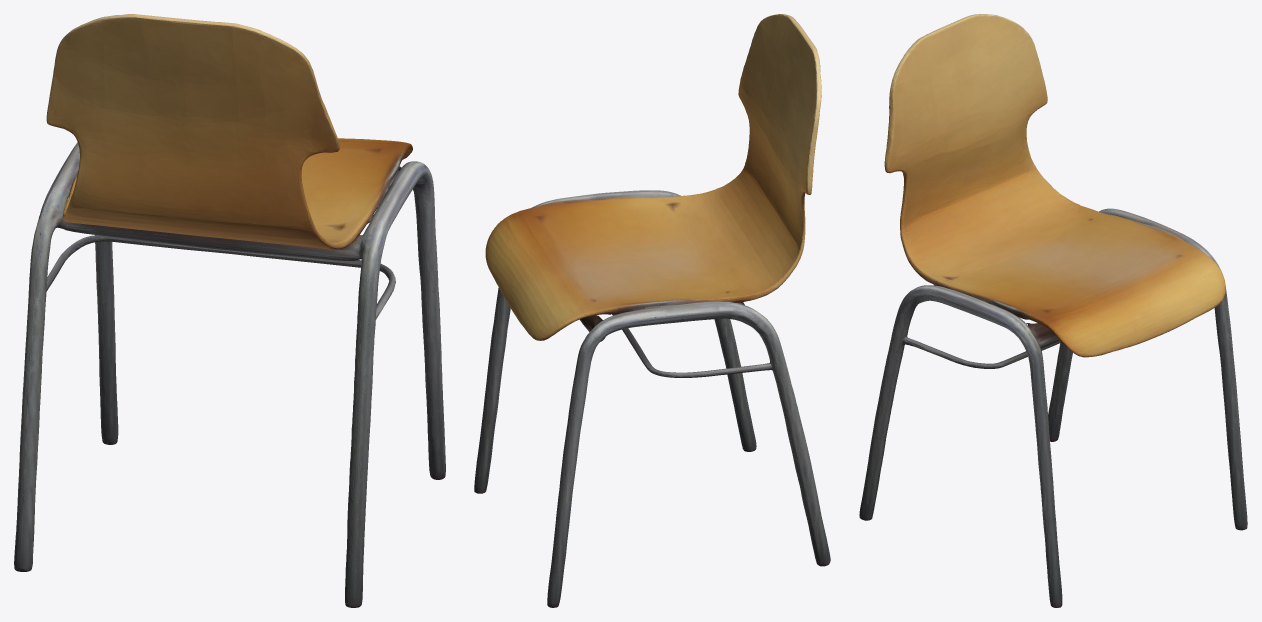
The model's file is light-colored_wooden_chair_at_middle_row_right_table_(left)_000.glb.
3 renders of one model, left to right at view 1: azimuth 30°, elevation 25°; view 2: azimuth 150°, elevation 25°; view 3: azimuth 270°, elevation 25°, orthographic. The views are drawn at different scales.
Parts seen in each view (by area): view 1: phase2_final_light-colored_wooden_chair_at_middle_row_right_; view 2: phase2_final_light-colored_wooden_chair_at_middle_row_right_; view 3: phase2_final_light-colored_wooden_chair_at_middle_row_right_.
Boxes of the visible parts, box(x1,y1,x2,y2) form: phase2_final_light-colored_wooden_chair_at_middle_row_right_: box(14, 14, 445, 607); phase2_final_light-colored_wooden_chair_at_middle_row_right_: box(474, 14, 830, 607); phase2_final_light-colored_wooden_chair_at_middle_row_right_: box(859, 14, 1247, 607).
Size of the model in its own units: 0.379 by 0.4958 by 0.3808.
1 material, 1 textured.
